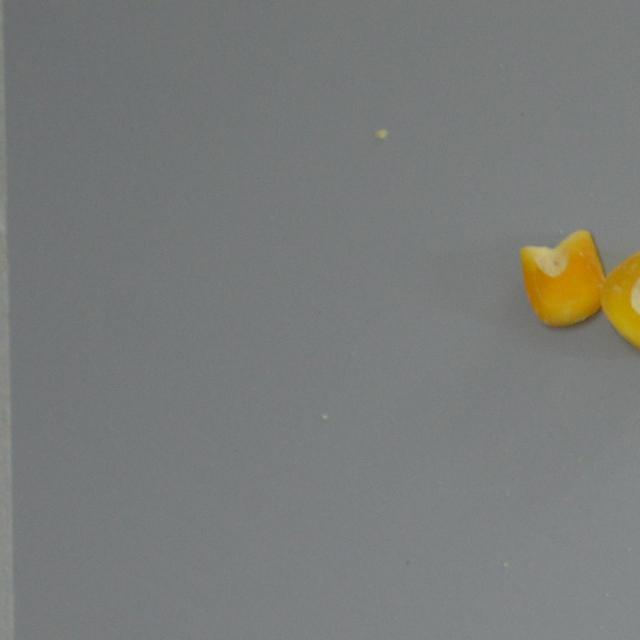no_canjicado: (596, 240, 640, 360)
punto_negro: (516, 226, 609, 330)
